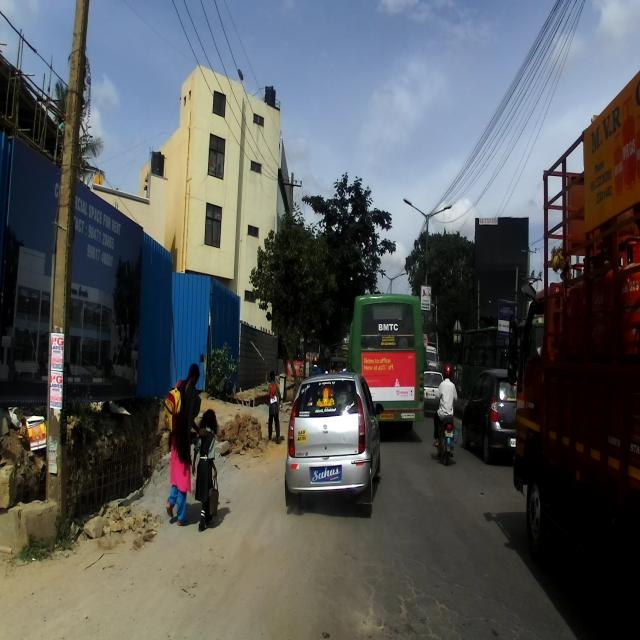Car_Hyundai: (461, 367, 520, 463)
Car_Maruti-Suzuki: (421, 370, 450, 410)
Car_TATA: (284, 372, 383, 514)
bus: (347, 293, 426, 434)
motorcycle_TVS: (432, 398, 460, 467)
truck: (508, 71, 638, 638)
